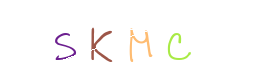C: (136, 0, 216, 80)
K: (85, 0, 165, 80)
M: (90, 0, 170, 80)
S: (44, 0, 124, 80)
